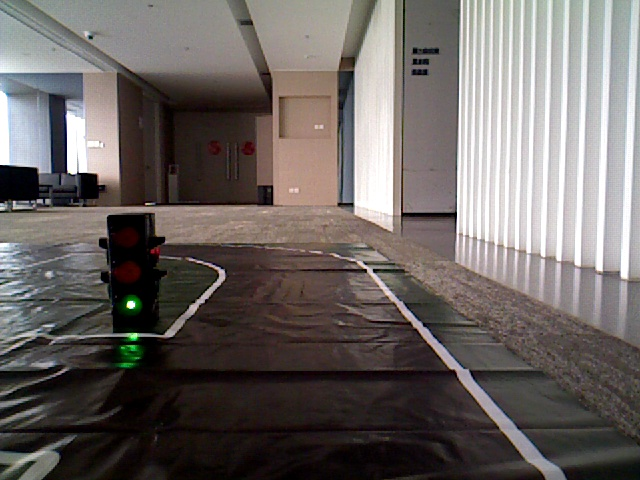green: (109, 215, 156, 319)
